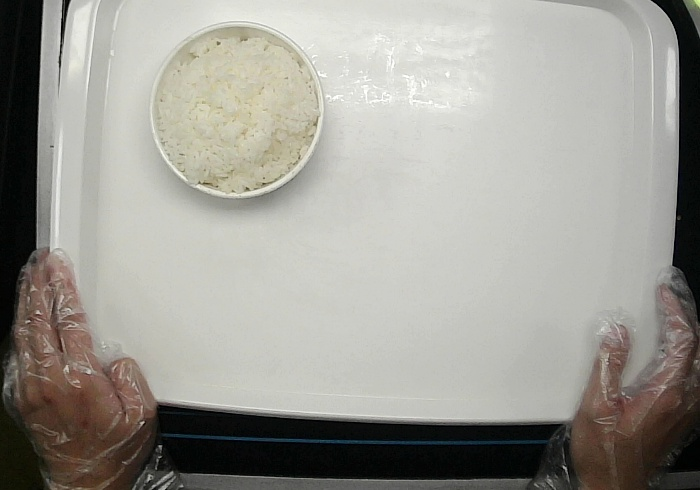HZYJPL-Fan_Wan: (149, 21, 324, 198)
